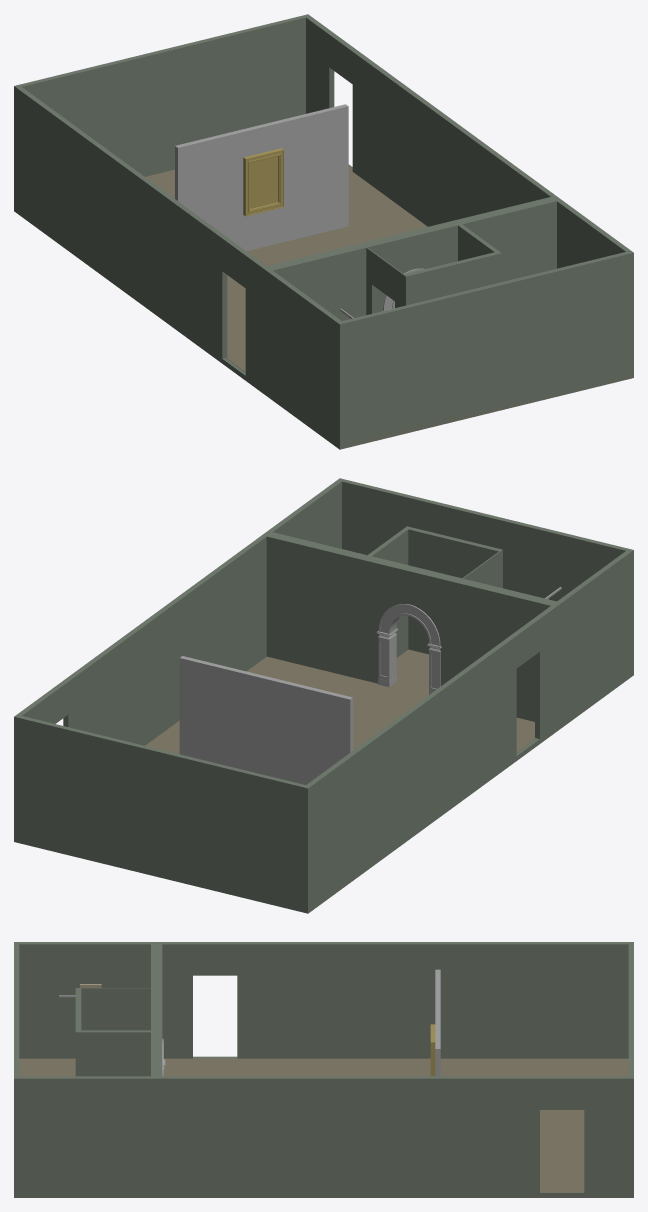
Rendered from main_room_all.fbx.
3 views of the same model, one above another, from view 1: azimuth 30°, elevation 25°; view 2: azimuth 150°, elevation 25°; view 3: azimuth 270°, elevation 25° (orthographic). The views are drawn at different scales.
Parts seen in each view (by area): view 1: polySurface2, pCube2, pCube6, polySurface3, pCube12, polySurface1, pCube9, pCube3, pCube13, polySurface4, pasted__pCube22; view 2: polySurface2, pCube6, polySurface1, polySurface3, pCube12, pCube2, pCube9, pCube3, pCube21, pasted__pCube22, polySurface4; view 3: polySurface3, polySurface2, pCube9, pasted__pCube22, polySurface4, polySurface1, pCube2, pCube6, pCube12, pCube3.
Part boxes in pixels (x1,y1,x2,y2): polySurface2: [14, 85, 343, 449]; pCube2: [341, 251, 631, 448]; pCube6: [17, 15, 307, 176]; polySurface3: [303, 14, 633, 377]; pCube12: [175, 104, 348, 251]; polySurface1: [265, 196, 558, 320]; pCube9: [145, 165, 632, 448]; pCube3: [403, 251, 501, 306]; pCube13: [243, 148, 283, 216]; polySurface4: [366, 247, 403, 314]; pasted__pCube22: [458, 224, 498, 260]; polySurface2: [304, 549, 633, 913]; pCube6: [16, 715, 306, 912]; polySurface1: [265, 531, 557, 721]; polySurface3: [14, 478, 344, 842]; pCube12: [179, 656, 353, 784]; pCube2: [340, 479, 630, 601]; pCube9: [15, 649, 536, 839]; pCube3: [404, 526, 502, 654]; pCube21: [376, 604, 441, 694]; pasted__pCube22: [368, 528, 408, 657]; polySurface4: [462, 551, 499, 587]; polySurface3: [14, 1076, 633, 1197]; polySurface2: [14, 942, 633, 1058]; pCube9: [19, 1058, 628, 1192]; pasted__pCube22: [81, 1030, 150, 1076]; polySurface4: [81, 988, 150, 1030]; polySurface1: [151, 943, 162, 1077]; pCube2: [14, 943, 19, 1077]; pCube6: [628, 943, 633, 1077]; pCube12: [435, 969, 440, 1076]; pCube3: [75, 988, 81, 1076].
Size of the model in its own units: 821 by 334 by 1575.
